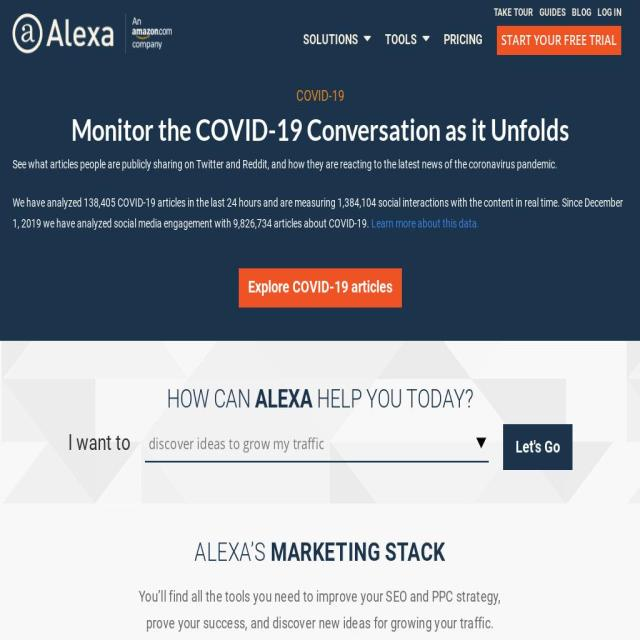button: (238, 268, 402, 308), (497, 26, 621, 55), (502, 424, 572, 470), (443, 20, 482, 60)
field: (144, 424, 489, 463)
heading: (12, 112, 628, 146), (132, 583, 508, 637), (12, 88, 628, 104), (270, 538, 446, 566), (312, 384, 474, 414), (166, 384, 255, 414), (194, 538, 272, 566), (255, 384, 312, 414)
image: (12, 14, 172, 54)
link: (372, 217, 479, 230), (494, 7, 533, 18), (540, 7, 566, 18), (598, 7, 622, 18), (572, 7, 591, 18)
text: (13, 196, 623, 230), (12, 154, 628, 175), (68, 430, 130, 456), (303, 32, 361, 48), (385, 32, 419, 48)
